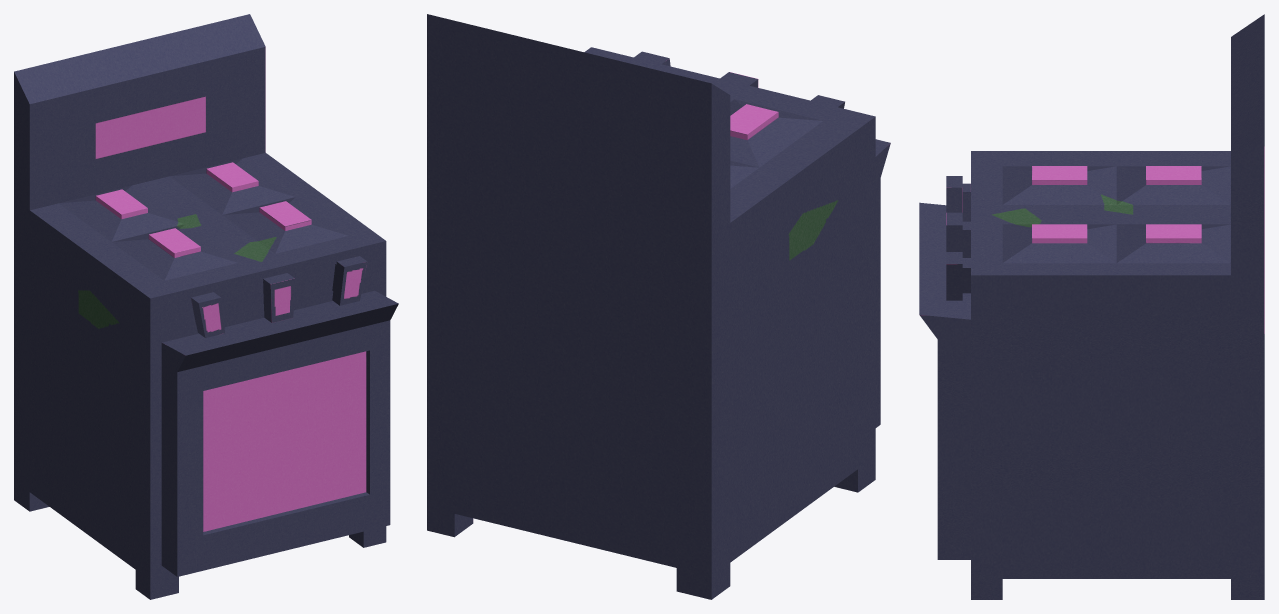
File: HDStove.fbx
The picture shows the model from 3 angles, left to right: view 1: azimuth 30°, elevation 25°; view 2: azimuth 150°, elevation 25°; view 3: azimuth 270°, elevation 25°; orthographic projection. The views are drawn at different scales.
Parts seen in each view (by area): view 1: Stove.001; view 2: Stove.001; view 3: Stove.001.
Boxes of the visible parts, x1,y1,x2,y2 form: Stove.001: [14, 14, 398, 599]; Stove.001: [427, 14, 890, 599]; Stove.001: [919, 14, 1264, 599].
Size of the model in its own units: 73.26 by 127 by 86.19.
